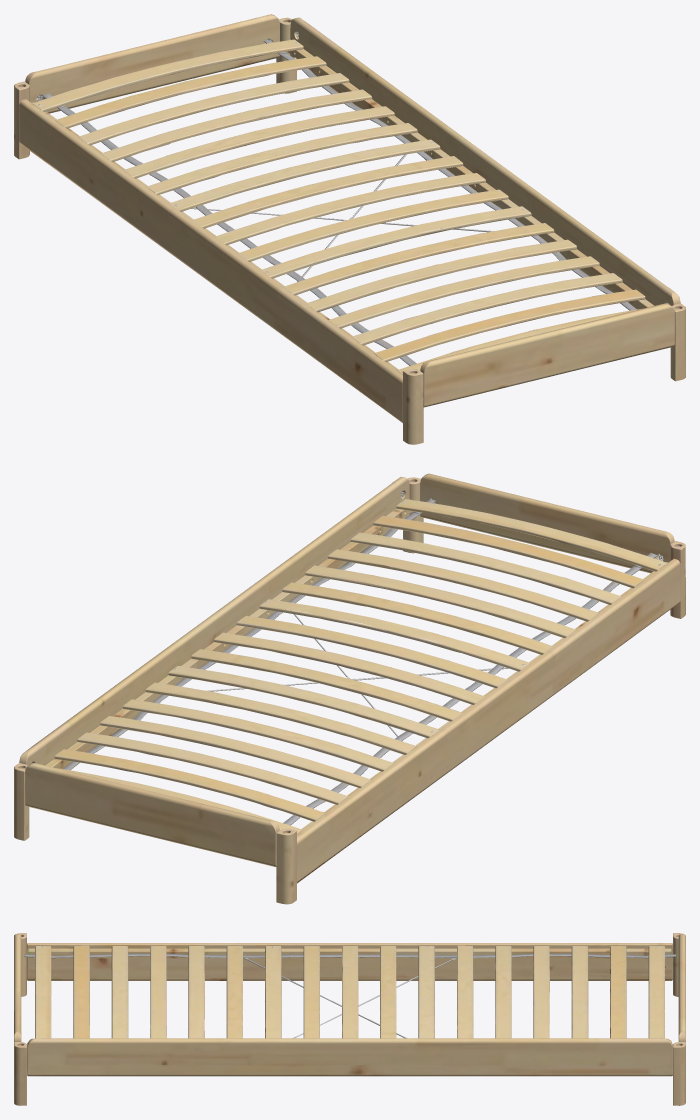
The model's file is Utaker00360484-2-scene-512.glb.
The picture shows the model from 3 angles, top to bottom: view 1: azimuth 30°, elevation 25°; view 2: azimuth 150°, elevation 25°; view 3: azimuth 270°, elevation 25°; orthographic projection. The views are drawn at different scales.
Parts seen in each view (by area): view 1: model.020; view 2: model.020; view 3: model.020.
Part boxes in pixels (<box>): model.020: <box>14,14,685,444</box>; model.020: <box>14,473,685,904</box>; model.020: <box>14,933,685,1105</box>.
Size of the model in its own units: 0.827 by 0.2277 by 2.05.
Materials: 1 (1 with a texture image).
